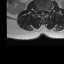CCS_stenosis: (41, 9, 43, 16)
LFS_stenosis: (45, 6, 47, 13)
LLS_stenosis: (43, 8, 45, 14)
RFS_severe_stenosis: (37, 7, 39, 13)
RLS_severe_stenosis: (39, 7, 41, 14)
